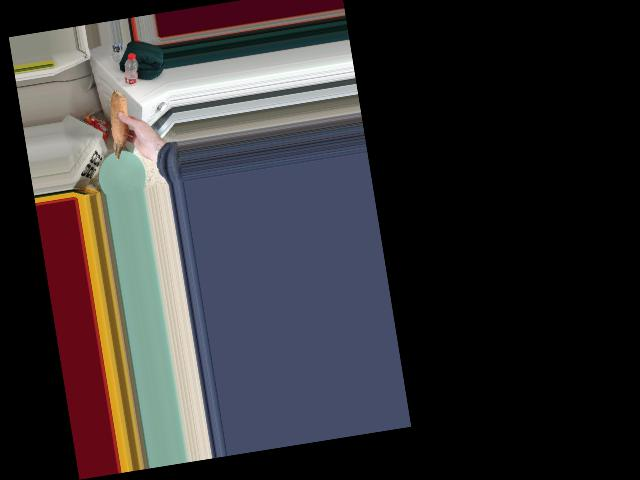sweet_potato: (103, 86, 132, 164)
